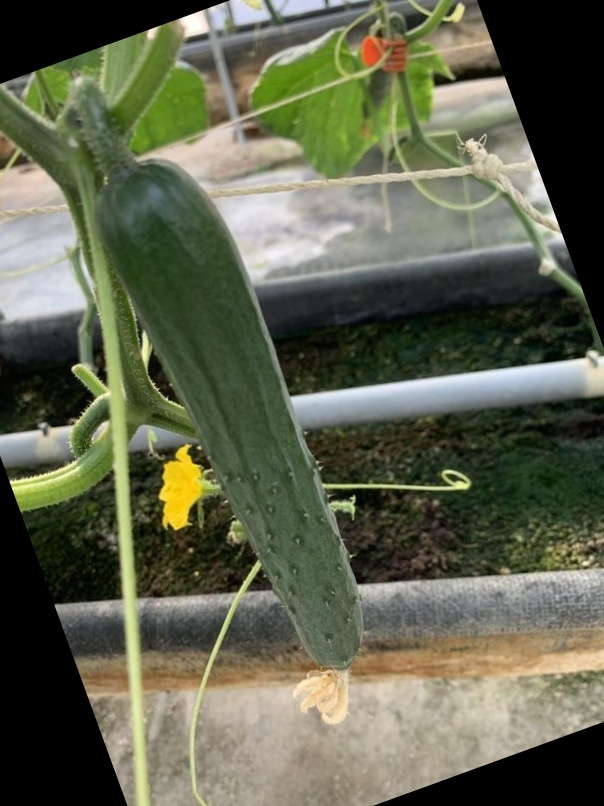mature: (86, 136, 395, 699)
